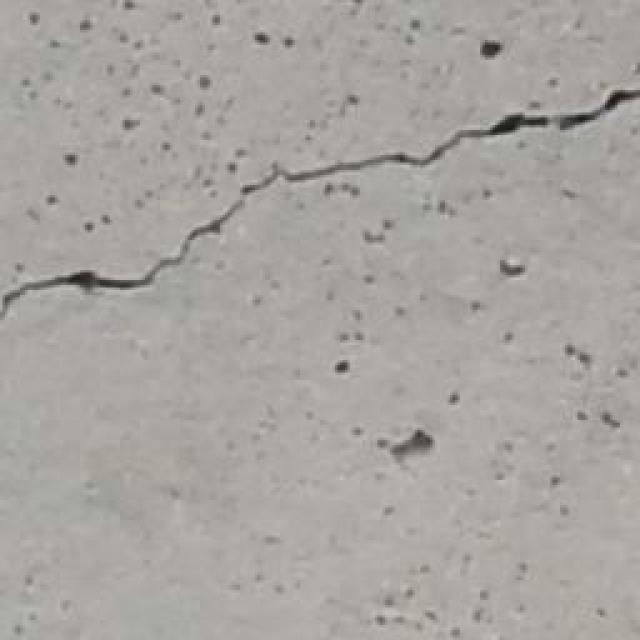concrete-crack: (0, 75, 638, 320)
